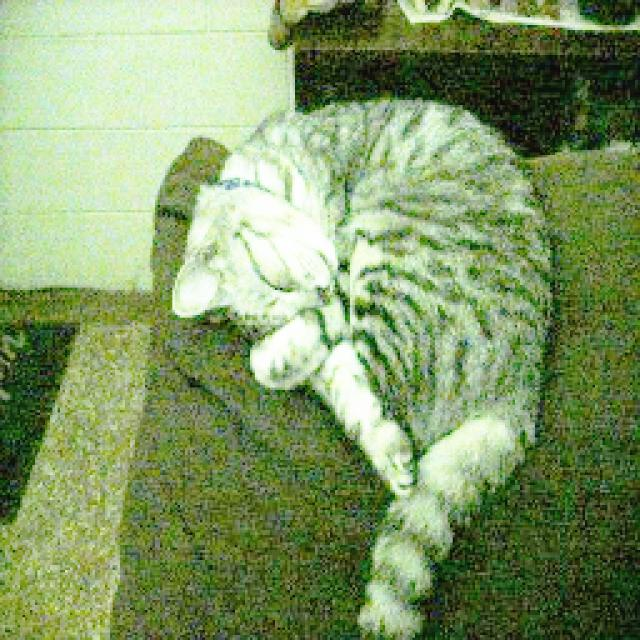cat: (170, 60, 567, 620)
